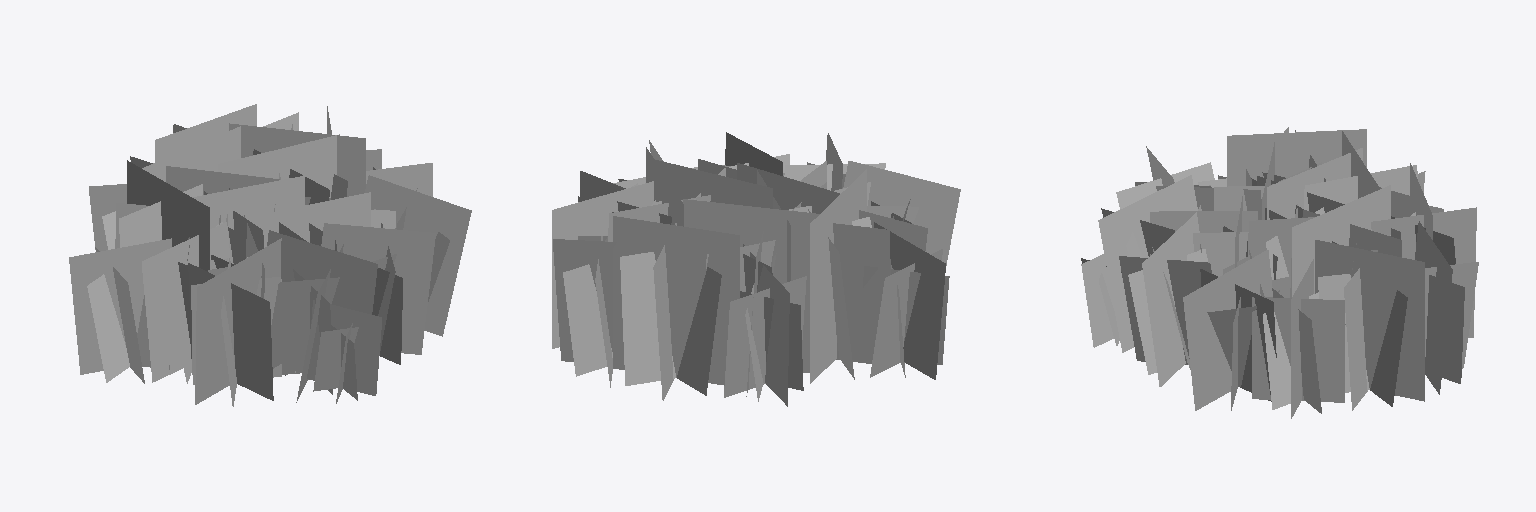
Rendered from Grass.obj.
3 views of the same model, side by side, from view 1: azimuth 30°, elevation 25°; view 2: azimuth 150°, elevation 25°; view 3: azimuth 270°, elevation 25° (orthographic).
Visible parts, largest first — view 1: Plane.004_Plane.005; view 2: Plane.004_Plane.005; view 3: Plane.004_Plane.005.
Boxes of the visible parts, x1,y1,x2,y2 form: Plane.004_Plane.005: [69, 104, 471, 406]; Plane.004_Plane.005: [552, 132, 960, 406]; Plane.004_Plane.005: [1081, 127, 1478, 418].
Bounding box in the file's own units: 4.76 × 2.12 × 4.49.